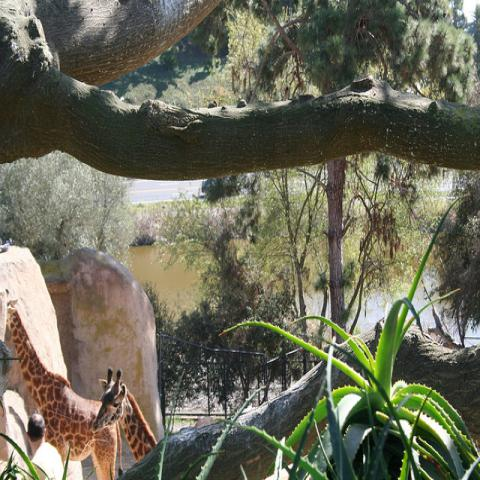car: (201, 178, 210, 198)
